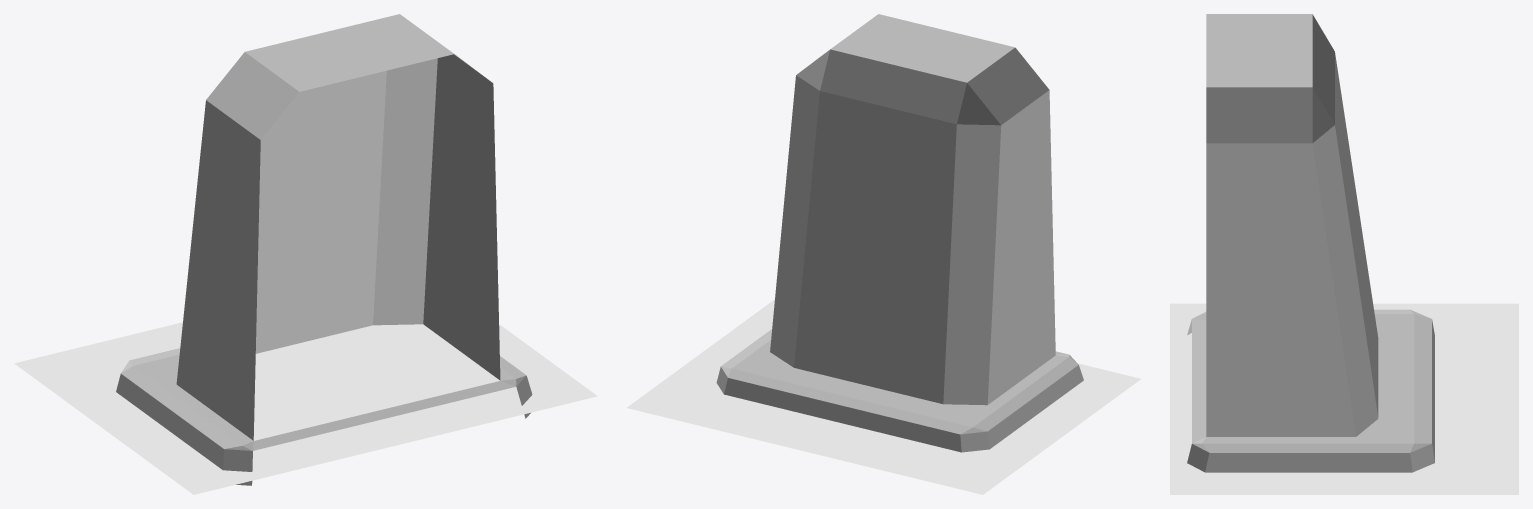
File: obj_gravestone.fbx
The picture shows the model from 3 angles, left to right: view 1: azimuth 30°, elevation 25°; view 2: azimuth 150°, elevation 25°; view 3: azimuth 270°, elevation 25°; orthographic projection. The views are drawn at different scales.
Parts seen in each view (by area): view 1: obj_gravestone, shadow; view 2: obj_gravestone, shadow; view 3: obj_gravestone, shadow.
Boxes of the visible parts, x1,y1,x2,y2 form: obj_gravestone: [116, 14, 532, 485]; shadow: [14, 322, 597, 494]; obj_gravestone: [716, 14, 1083, 452]; shadow: [627, 299, 1140, 494]; obj_gravestone: [1187, 14, 1434, 472]; shadow: [1170, 303, 1518, 494].
Bounding box in the file's own units: 1.14 × 0.9998 × 0.8778.
